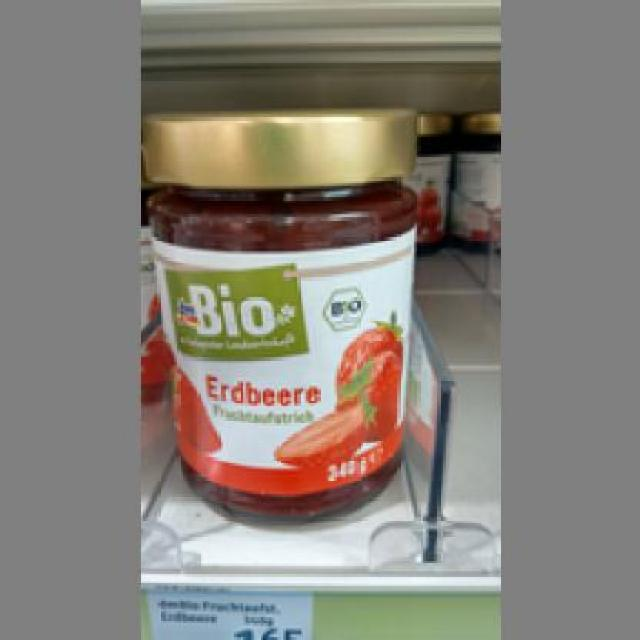Jam: (140, 106, 423, 526)
